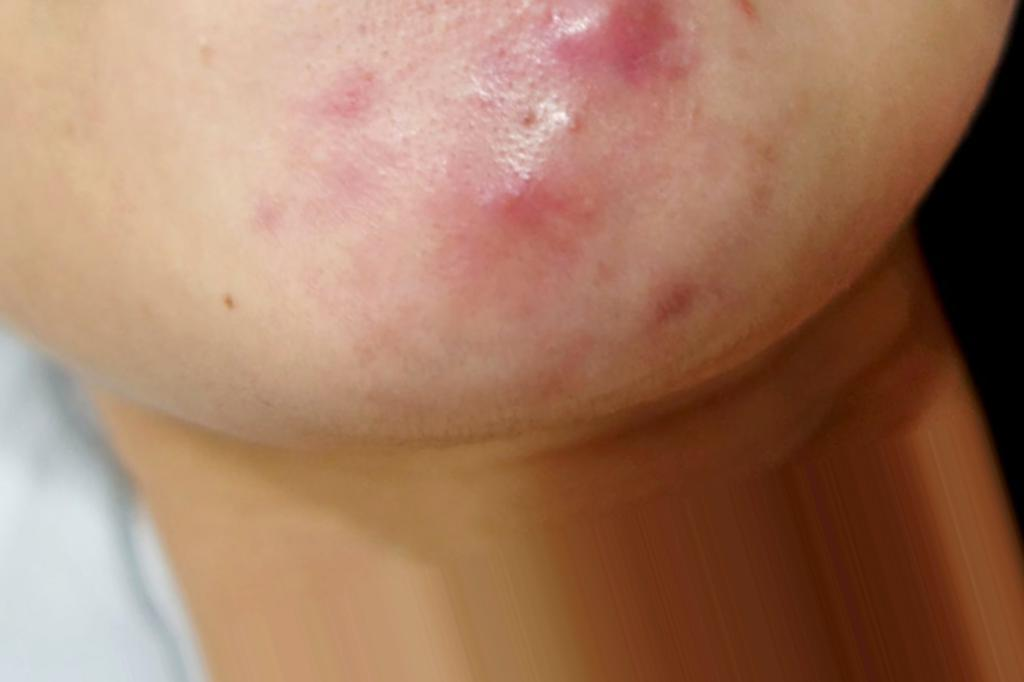Acne: (455, 59, 679, 215), (520, 0, 755, 95), (423, 111, 543, 251), (641, 261, 726, 342)
